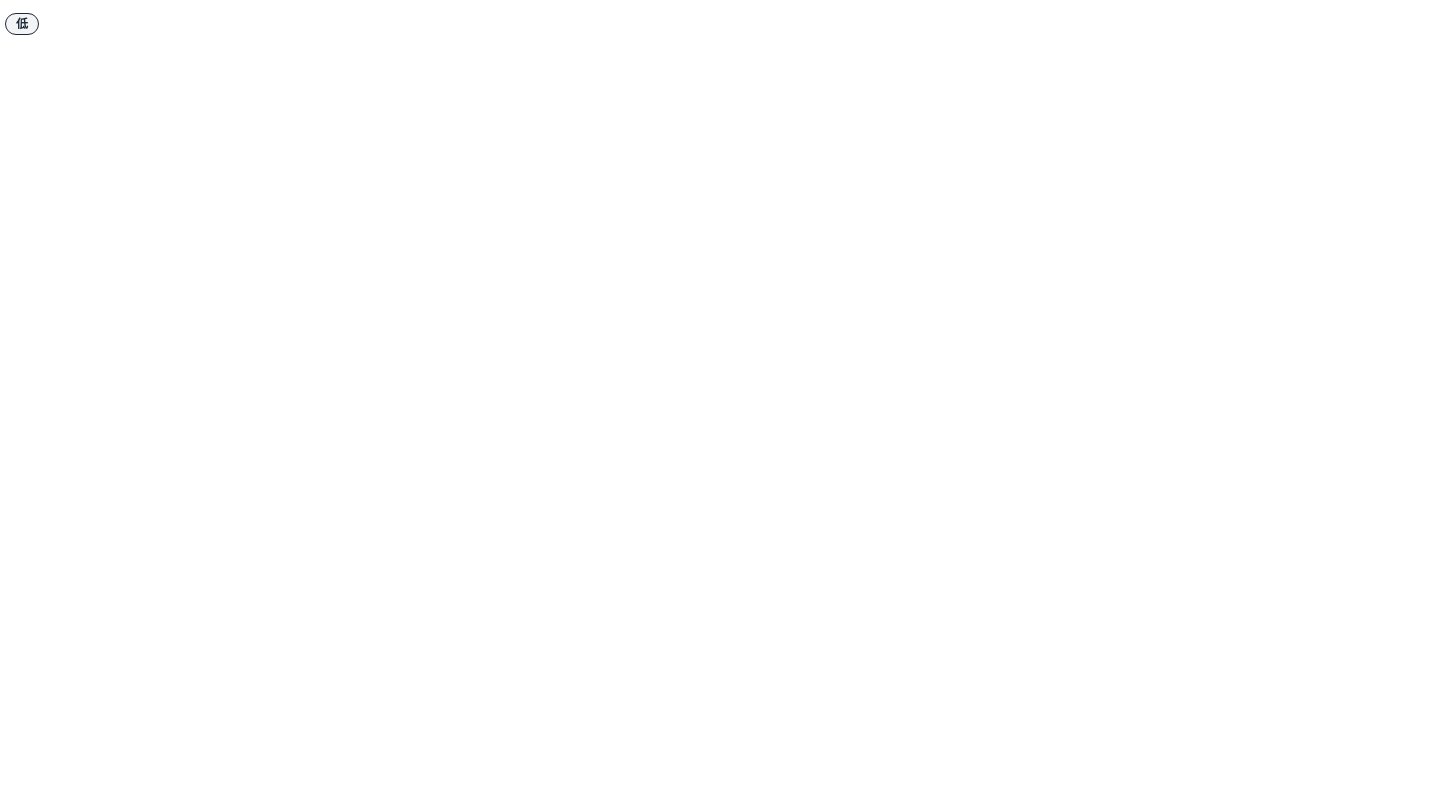
Test: PriorityInlineEdit › 包含四个优先级选项
The width and height of the screenshot is (1440, 810).
// 点击徽章打开下拉
Step 1. Click the button "低" → click(22, 22), box [0, 0, 44, 44]
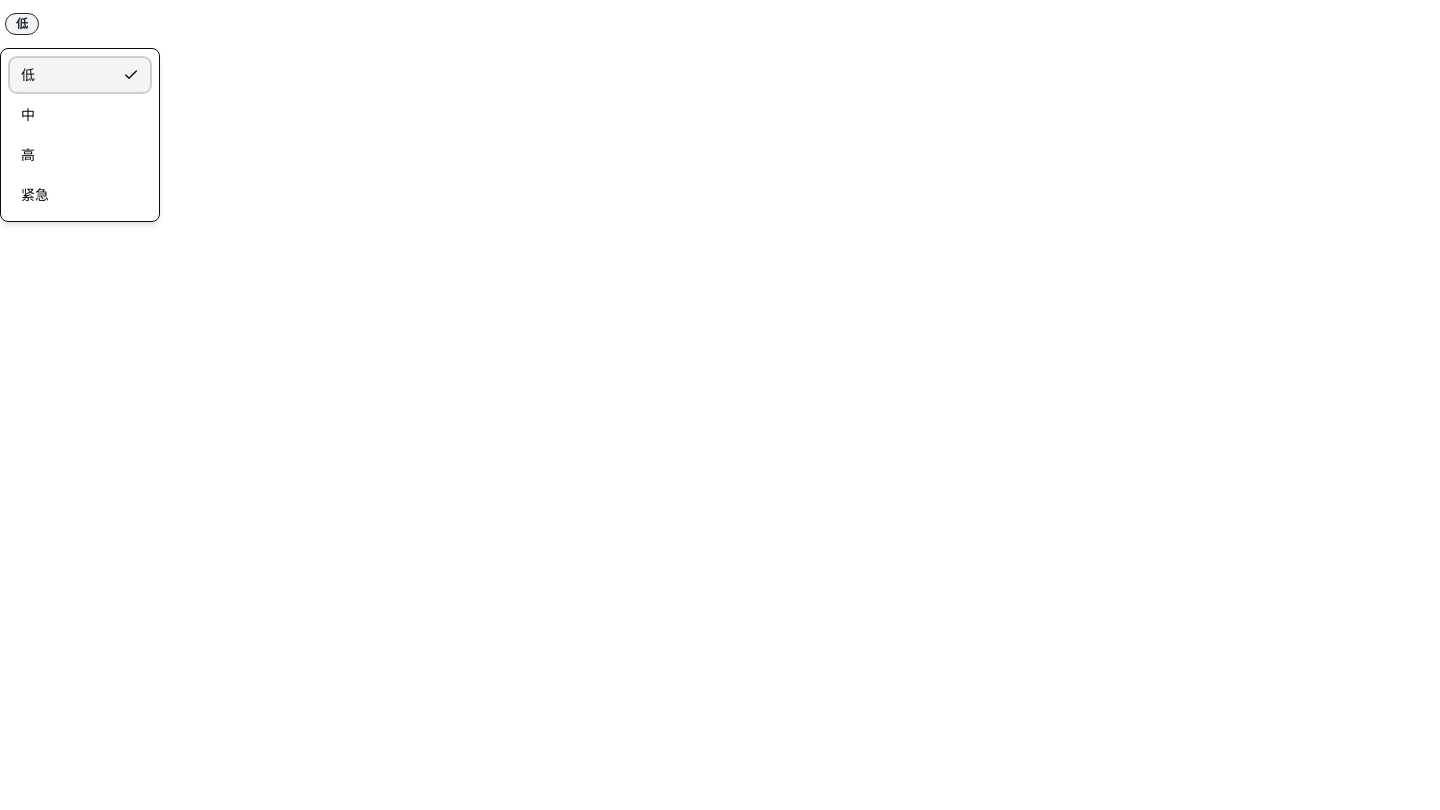
Check: the option "低" is shown, box [9, 57, 151, 93]
Check: the option "中" is shown, box [9, 97, 151, 133]
Check: the option "高" is shown, box [9, 137, 151, 173]
